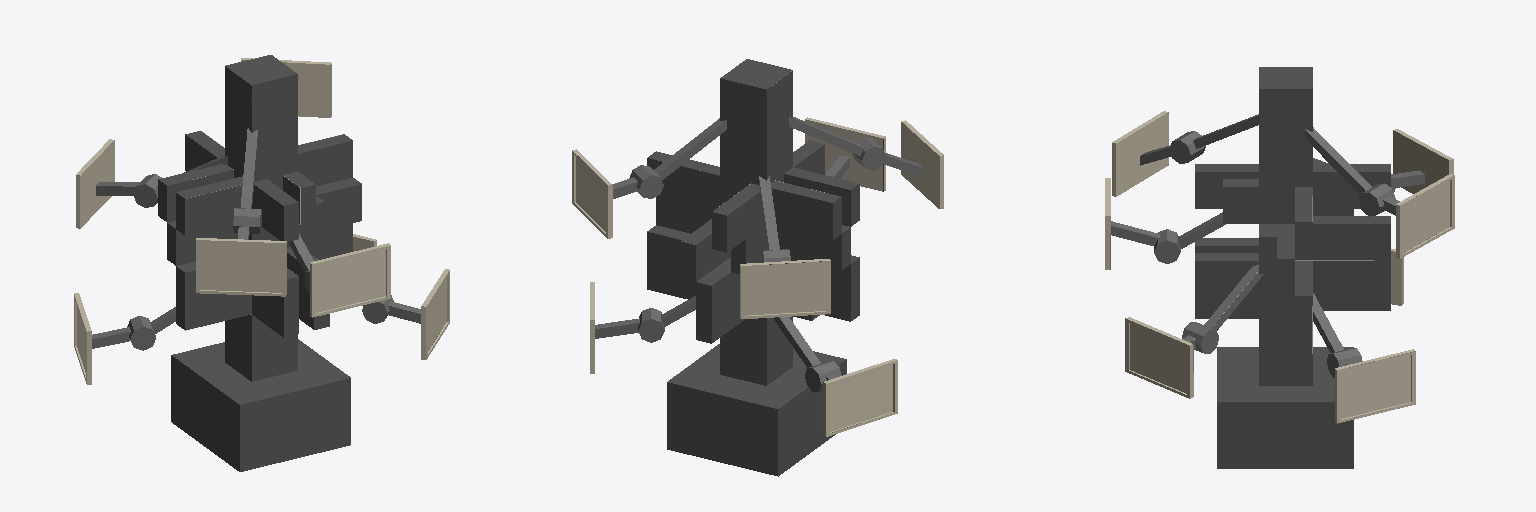
3 renders of one model, left to right at view 1: azimuth 30°, elevation 25°; view 2: azimuth 150°, elevation 25°; view 3: azimuth 270°, elevation 25°, orthographic.
Parts seen in each view (by area): view 1: Cube.001_Cube.003; view 2: Cube.001_Cube.003; view 3: Cube.001_Cube.003.
Part boxes in pixels (x1,y1,x2,y2): Cube.001_Cube.003: (74,55,449,471); Cube.001_Cube.003: (572,59,943,476); Cube.001_Cube.003: (1105,67,1454,468).
Size of the model in its own units: 12.92 by 15 by 13.04.
3 materials, 1 textured.